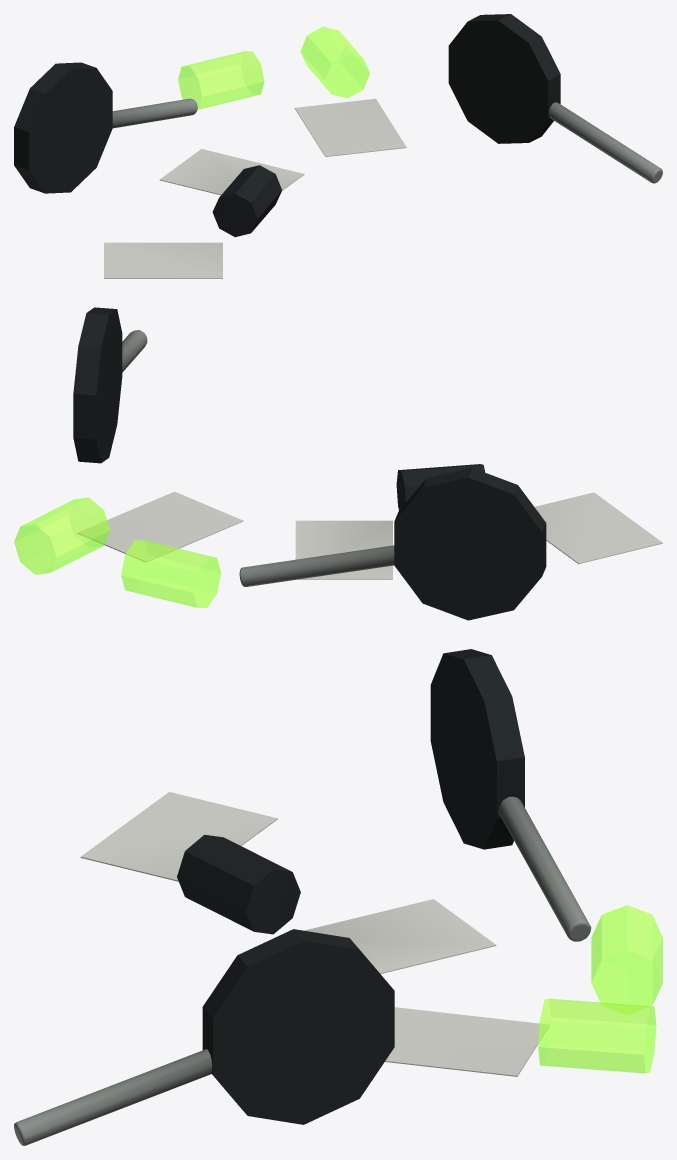
File: lab_floor_wreck.glb
The picture shows the model from 3 angles, top to bottom: view 1: azimuth 30°, elevation 25°; view 2: azimuth 150°, elevation 25°; view 3: azimuth 270°, elevation 25°; orthographic projection. The views are drawn at different scales.
Parts seen in each view (by area): view 1: LabFloorWreck; view 2: LabFloorWreck; view 3: LabFloorWreck.
Part boxes in pixels (bbox=[...]): LabFloorWreck: bbox=[14, 14, 662, 278]; LabFloorWreck: bbox=[14, 307, 662, 620]; LabFloorWreck: bbox=[14, 649, 662, 1145].
Bounding box in the file's own units: 1.47 × 0.34 × 1.09.
